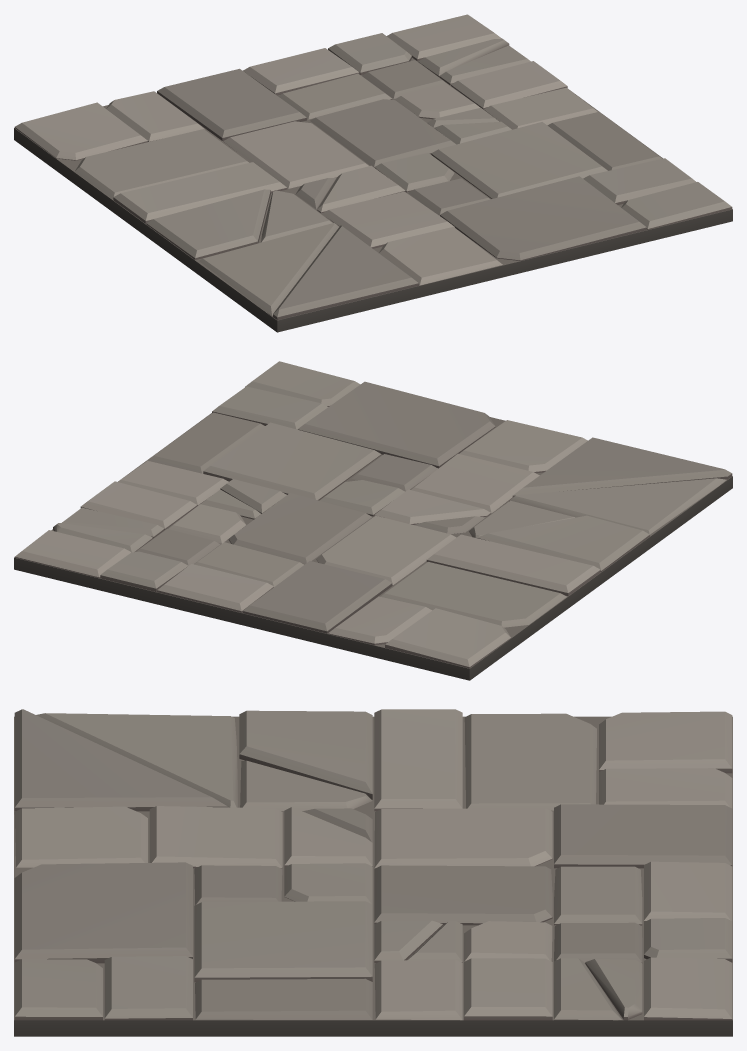
Rendered from floor_flagstones_ruined_large_A.glb.
3 renders of one model, top to bottom at view 1: azimuth 30°, elevation 25°; view 2: azimuth 150°, elevation 25°; view 3: azimuth 270°, elevation 25°, orthographic. The views are drawn at different scales.
Visible parts, largest first — view 1: Item; view 2: Item; view 3: Item.
Boxes of the visible parts, bbox=[...] form: Item: bbox=[14, 14, 732, 332]; Item: bbox=[14, 361, 732, 680]; Item: bbox=[14, 709, 732, 1036].
Bounding box in the file's own units: 4 × 0.1777 × 4.
1 material, 1 textured.
